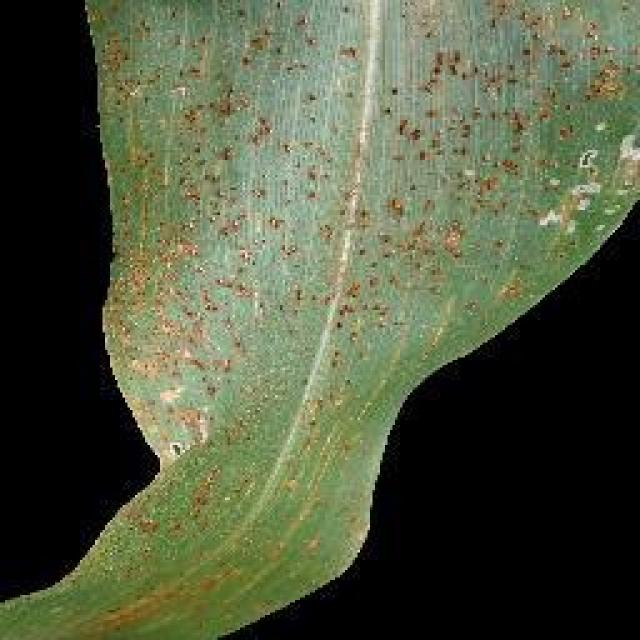Corn Common Rust: (127, 16, 538, 576)
